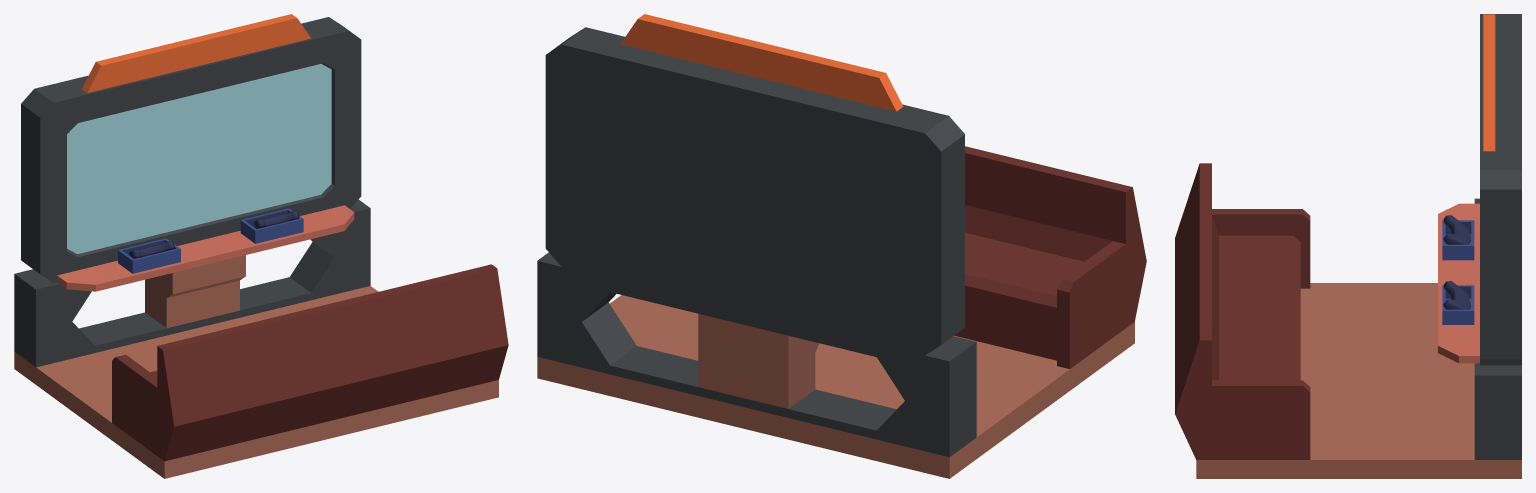
Rendered from SM_GameArea_RecreationalMachines_04.fbx.
3 views of the same model, side by side, from view 1: azimuth 30°, elevation 25°; view 2: azimuth 150°, elevation 25°; view 3: azimuth 270°, elevation 25° (orthographic). The views are drawn at different scales.
Parts seen in each view (by area): view 1: SM_GameArea_RecreationalMachines_04; view 2: SM_GameArea_RecreationalMachines_04; view 3: SM_GameArea_RecreationalMachines_04.
Part boxes in pixels (x1,y1,x2,y2): SM_GameArea_RecreationalMachines_04: [14, 14, 508, 478]; SM_GameArea_RecreationalMachines_04: [537, 14, 1146, 478]; SM_GameArea_RecreationalMachines_04: [1175, 14, 1521, 478].
Size of what is drawn, in the model's own units: 997 by 852 by 825.
